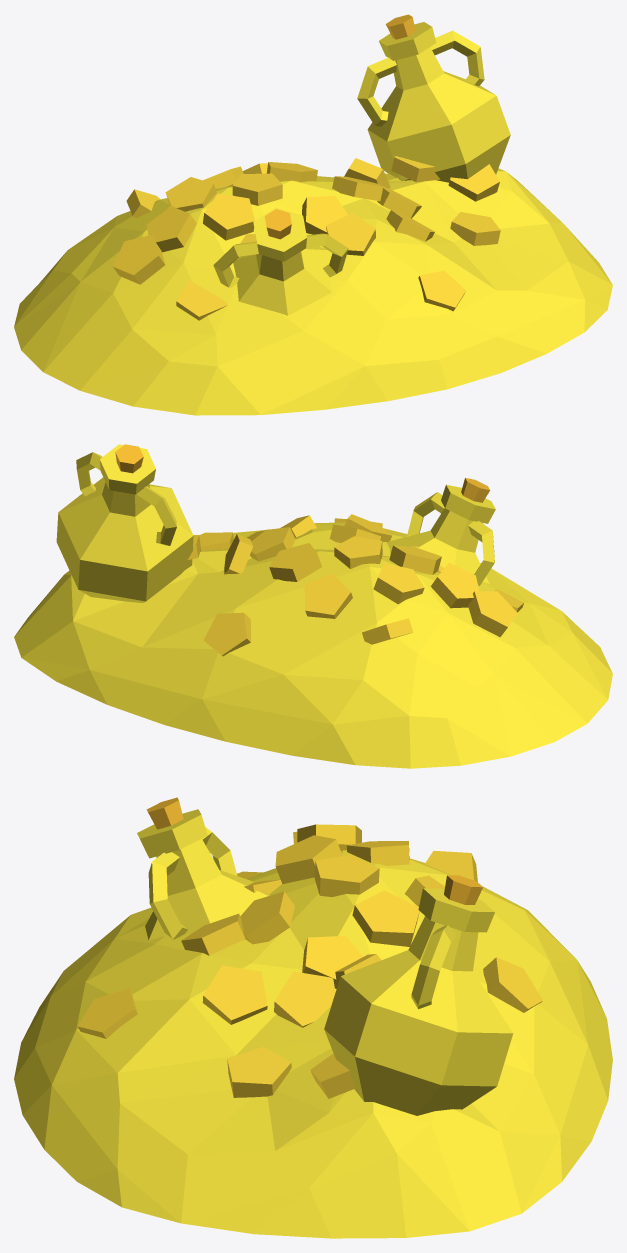
File: Ship_030.glb
3 views of the same model, one above another, from view 1: azimuth 30°, elevation 25°; view 2: azimuth 150°, elevation 25°; view 3: azimuth 270°, elevation 25° (orthographic). The views are drawn at different scales.
Parts seen in each view (by area): view 1: Ship_030; view 2: Ship_030; view 3: Ship_030.
Part boxes in pixels (<box>): Ship_030: <box>14,14,612,415</box>; Ship_030: <box>14,444,612,768</box>; Ship_030: <box>14,797,612,1238</box>.
Size of the model in its own units: 1.09 by 0.4225 by 0.8093.
1 material, 1 textured.
